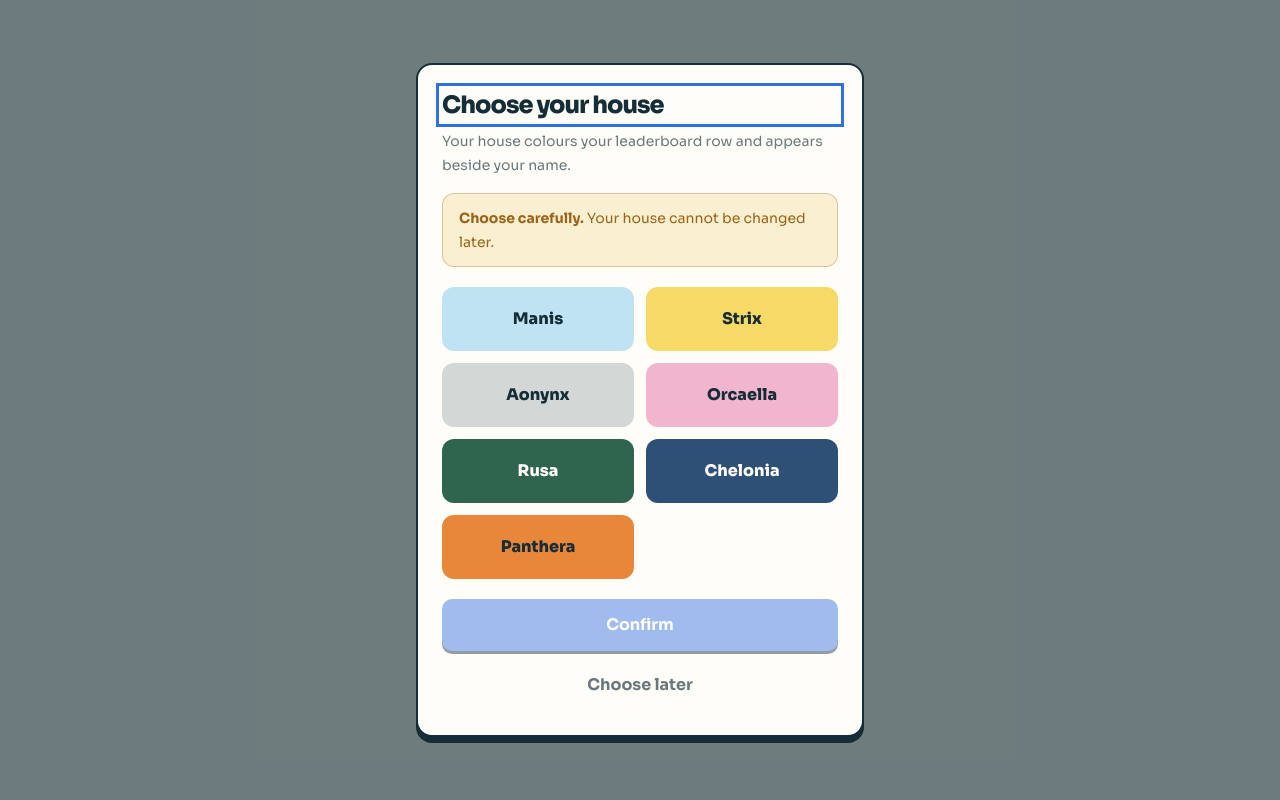
Test: house prompt modal › keeps the choice and restores the control after an ordinary failure
Click the button "Strix" at (742, 319), box x1=646 y1=287 x2=838 y2=351
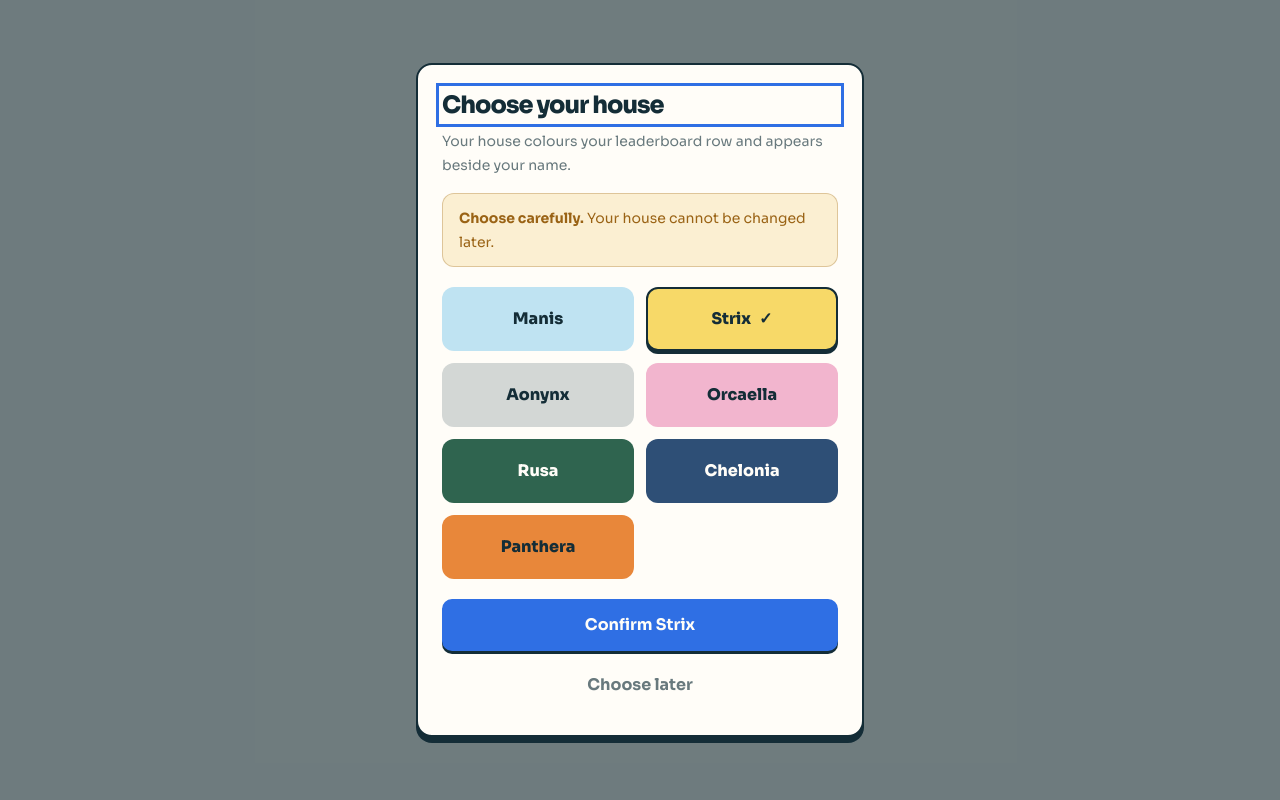
Click the button with test id "house-confirm" at (640, 625), box x1=442 y1=599 x2=838 y2=651
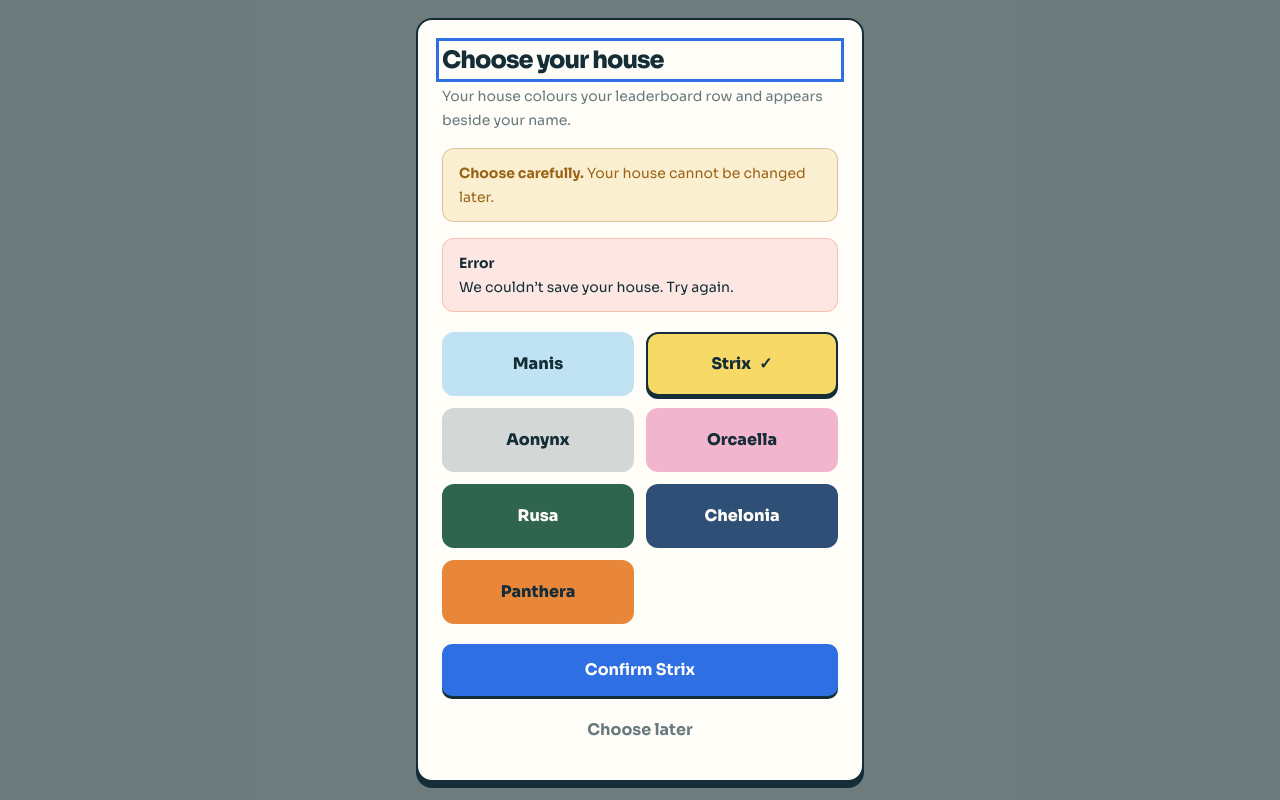
Expected: the button with test id "house-confirm" reads "Confirm Strix", x1=442 y1=644 x2=838 y2=696
Expected: the button with test id "house-confirm" is enabled, x1=442 y1=644 x2=838 y2=696
Expected: the text "We couldn’t save your house. Try again." is shown, x1=459 y1=278 x2=734 y2=296
